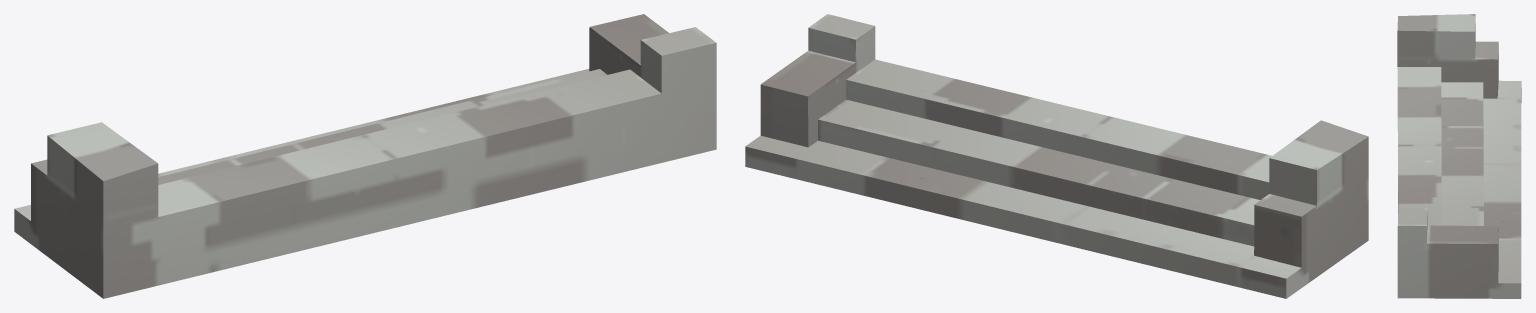
File: Step_003.fbx
3 renders of one model, left to right at view 1: azimuth 30°, elevation 25°; view 2: azimuth 150°, elevation 25°; view 3: azimuth 270°, elevation 25°, orthographic. The views are drawn at different scales.
Parts seen in each view (by area): view 1: Step_003; view 2: Step_003; view 3: Step_003.
Part boxes in pixels (left/top/right/bottom): Step_003: left=14, top=14, right=716, bottom=298; Step_003: left=745, top=14, right=1368, bottom=298; Step_003: left=1397, top=14, right=1521, bottom=298.
Bounding box in the file's own units: 3.06 × 0.789 × 0.5825.
